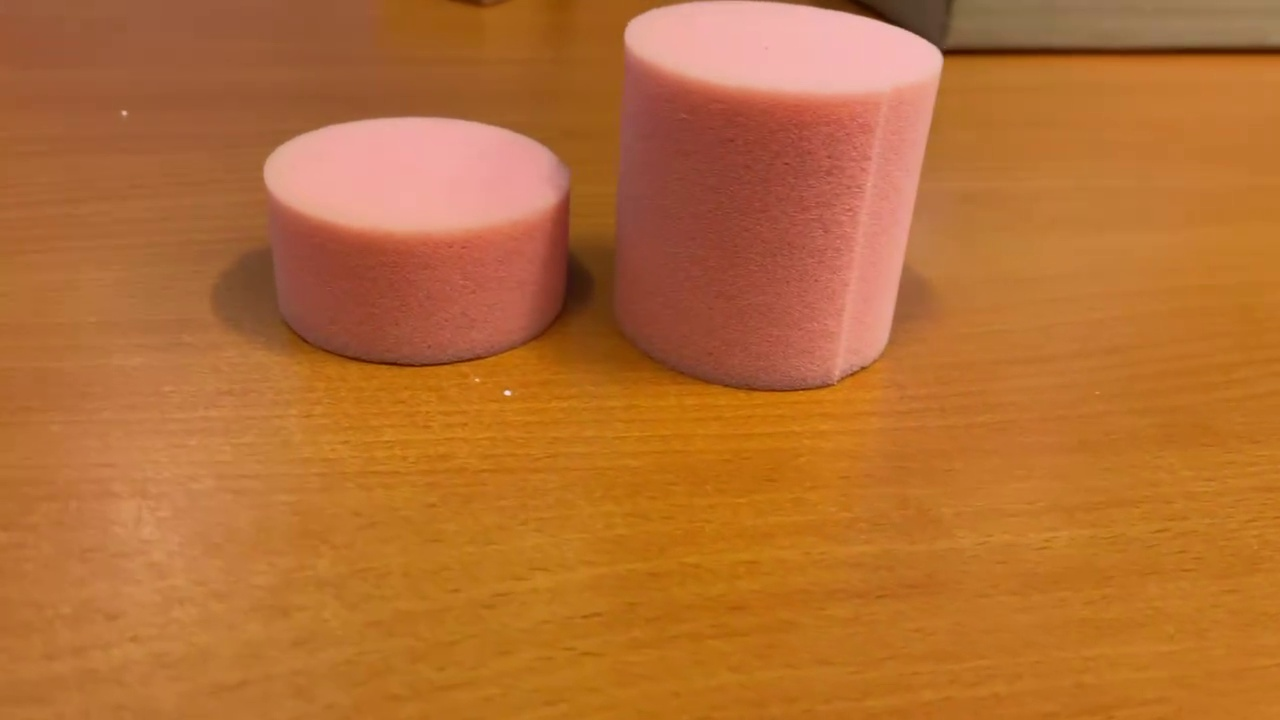Clyinder_short: (253, 110, 581, 374)
Cylinder: (612, 1, 954, 396)
